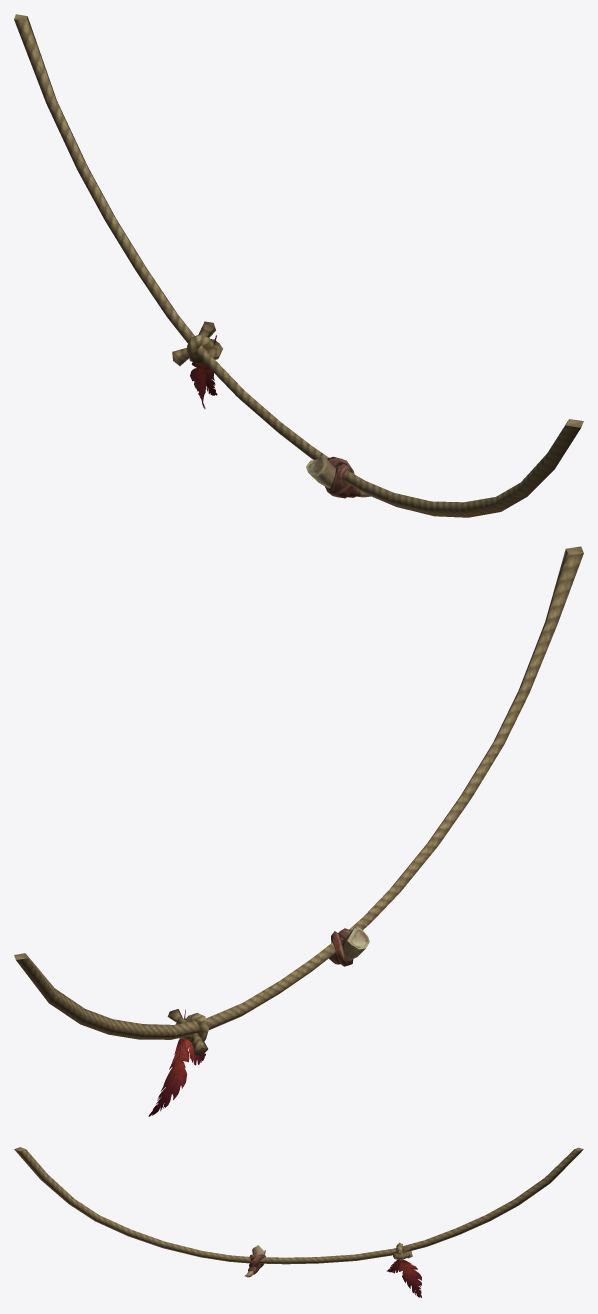
3 views of the same model, one above another, from view 1: azimuth 30°, elevation 25°; view 2: azimuth 150°, elevation 25°; view 3: azimuth 270°, elevation 25° (orthographic). The views are drawn at different scales.
Bounding box in the file's own units: 0.8772 × 4.1 × 14.68.
Materials: 2 (2 with a texture image).
